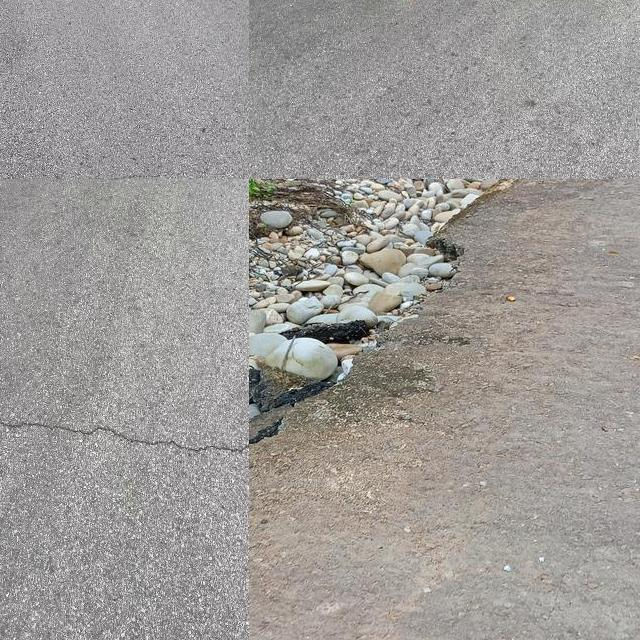Melintang: (0, 413, 249, 471)
Pinggir: (249, 207, 495, 478)
